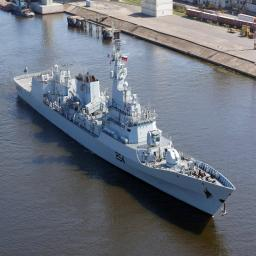Fragata: (14, 23, 239, 230)
